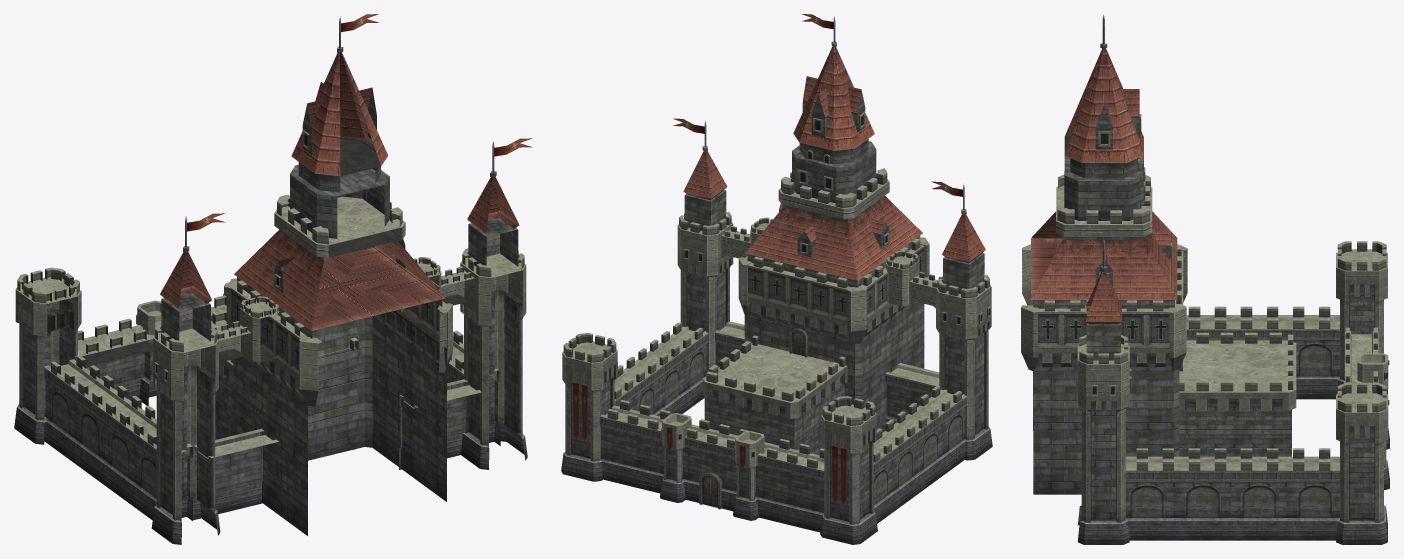
The model's file is SC_guowangchengbao_03.FBX.
The picture shows the model from 3 angles, left to right: view 1: azimuth 30°, elevation 25°; view 2: azimuth 150°, elevation 25°; view 3: azimuth 270°, elevation 25°; orthographic projection. The views are drawn at different scales.
Visible parts, largest first — view 1: SC_guowangchengbao_03; view 2: SC_guowangchengbao_03; view 3: SC_guowangchengbao_03.
Part boxes in pixels (box(x1,y1,x2,y2)): SC_guowangchengbao_03: box(14, 14, 532, 544); SC_guowangchengbao_03: box(561, 14, 992, 544); SC_guowangchengbao_03: box(1021, 14, 1389, 544).
Size of the model in its own units: 3874 by 4743 by 3528.
